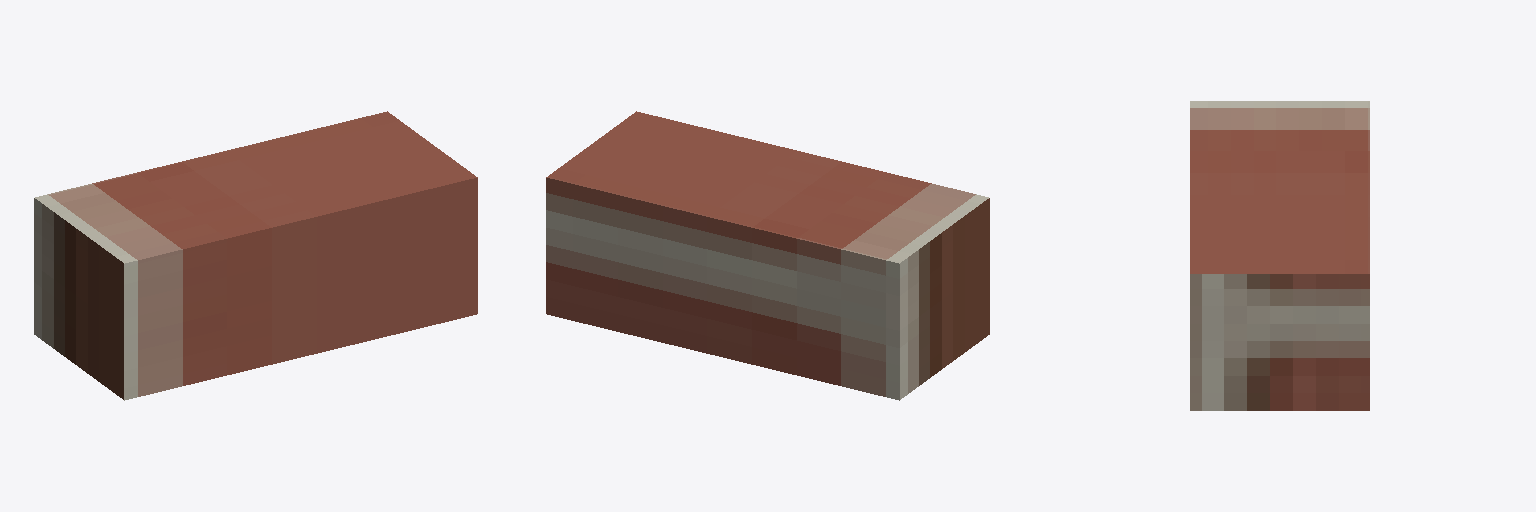
The picture shows the model from 3 angles: view 1: azimuth 30°, elevation 25°; view 2: azimuth 150°, elevation 25°; view 3: azimuth 270°, elevation 25°; orthographic projection.
Parts seen in each view (by area): view 1: Cube.003_Cube.004; view 2: Cube.003_Cube.004; view 3: Cube.003_Cube.004.
Boxes of the visible parts, box(x1,y1,x2,y2) form: Cube.003_Cube.004: box(34, 111, 477, 400); Cube.003_Cube.004: box(546, 111, 989, 400); Cube.003_Cube.004: box(1190, 101, 1369, 410).
Size of the model in its own units: 0.2035 by 0.0754 by 0.0901.
Materials: 1 (1 with a texture image).